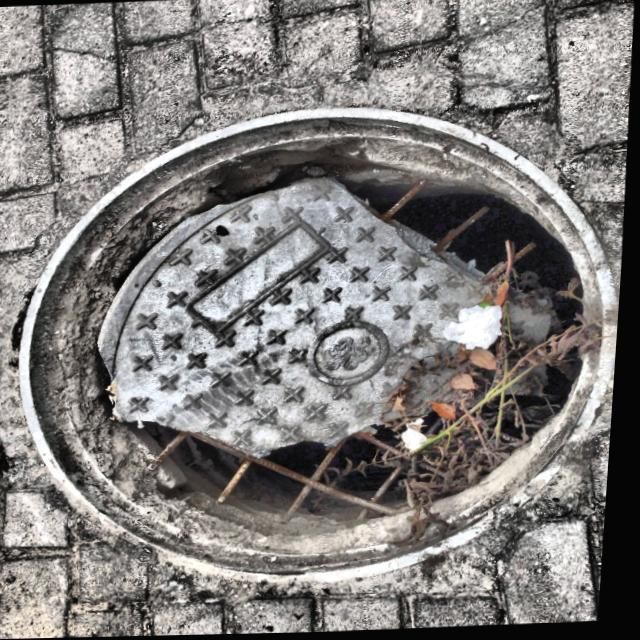Open Manhole: (113, 153, 600, 513)
